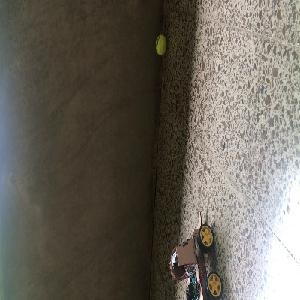Ball: (155, 34, 167, 56)
Robot: (169, 213, 224, 299)
